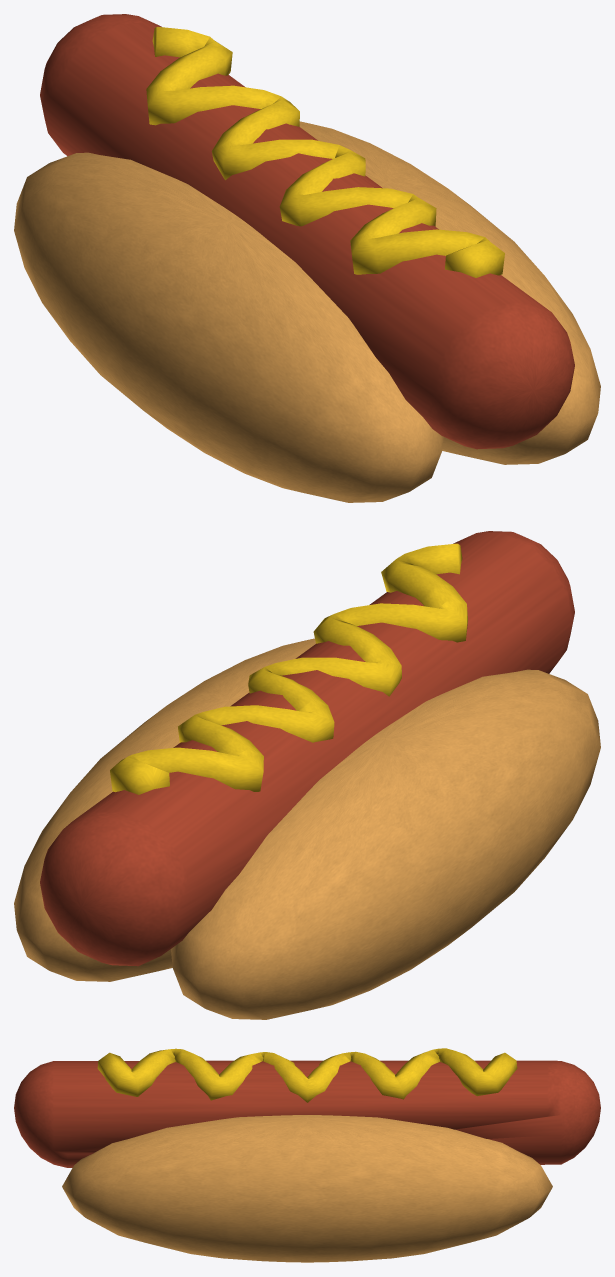
File: toy_hotdog.gltf
The picture shows the model from 3 angles, top to bottom: view 1: azimuth 30°, elevation 25°; view 2: azimuth 150°, elevation 25°; view 3: azimuth 270°, elevation 25°; orthographic projection. The views are drawn at different scales.
Parts seen in each view (by area): view 1: toy_hotdog; view 2: toy_hotdog; view 3: toy_hotdog.
Part boxes in pixels (x1,y1,x2,y2): toy_hotdog: (14,14,600,502); toy_hotdog: (14,531,600,1019); toy_hotdog: (14,1048,600,1262).
Size of the model in its own units: 0.236 by 0.1689 by 0.502.
Materials: 3 (3 with a texture image).
